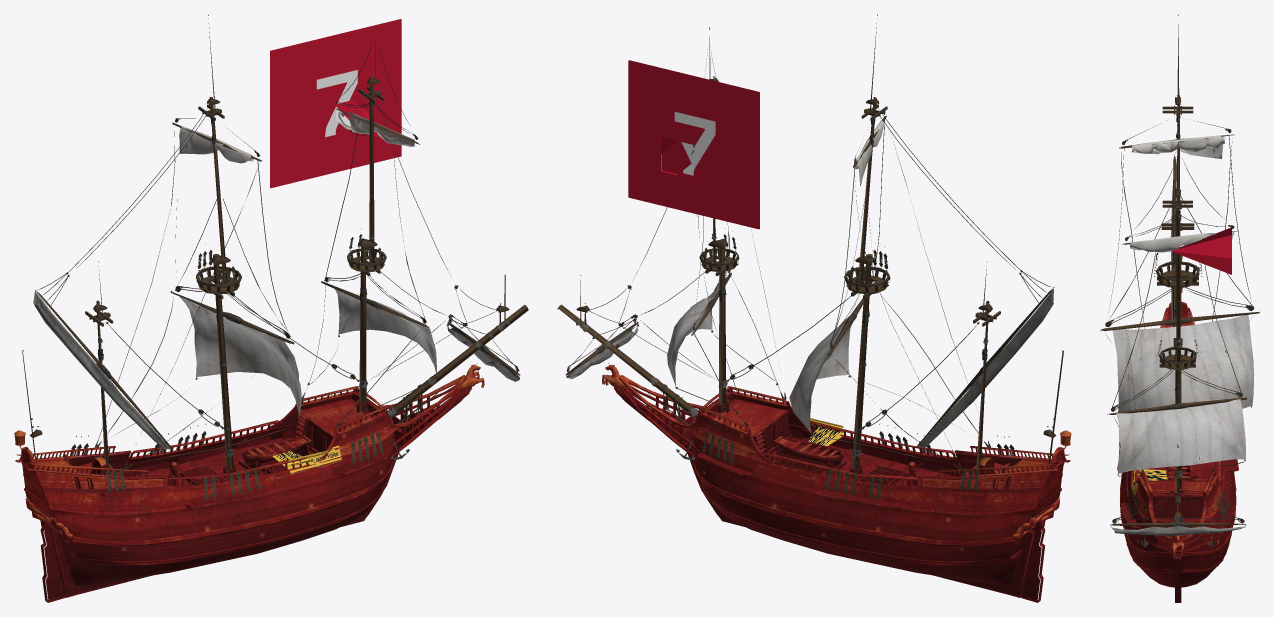
File: nyb_stuart_wasp.glb
3 views of the same model, side by side, from view 1: azimuth 30°, elevation 25°; view 2: azimuth 150°, elevation 25°; view 3: azimuth 270°, elevation 25° (orthographic). The views are drawn at different scales.
Parts seen in each view (by area): view 1: dutch_ship_medium_rigging, stk_lbl_79e824ec87.png, stk_lbl_8b9a522b48.png, stk_lbl_79e824ec87.png.001; view 2: dutch_ship_medium_rigging, stk_lbl_79e824ec87.png.001, stk_lbl_79e824ec87.png; view 3: dutch_ship_medium_rigging, stk_lbl_79e824ec87.png.001, stk_lbl_8b9a522b48.png.
Part boxes in pixels (x1,y1,x2,y2): dutch_ship_medium_rigging: (14,14,528,602); stk_lbl_79e824ec87.png: (270,19,401,188); stk_lbl_8b9a522b48.png: (272,445,341,474); stk_lbl_79e824ec87.png.001: (270,19,400,187); dutch_ship_medium_rigging: (557,14,1071,602); stk_lbl_79e824ec87.png.001: (628,60,759,229); stk_lbl_79e824ec87.png: (629,60,759,228); dutch_ship_medium_rigging: (1100,14,1259,602); stk_lbl_79e824ec87.png.001: (1171,227,1231,274); stk_lbl_8b9a522b48.png: (1131,469,1167,494).
Bounding box in the file's own units: 24.08 × 24.59 × 6.81.
Materials: 6 (6 with a texture image).
